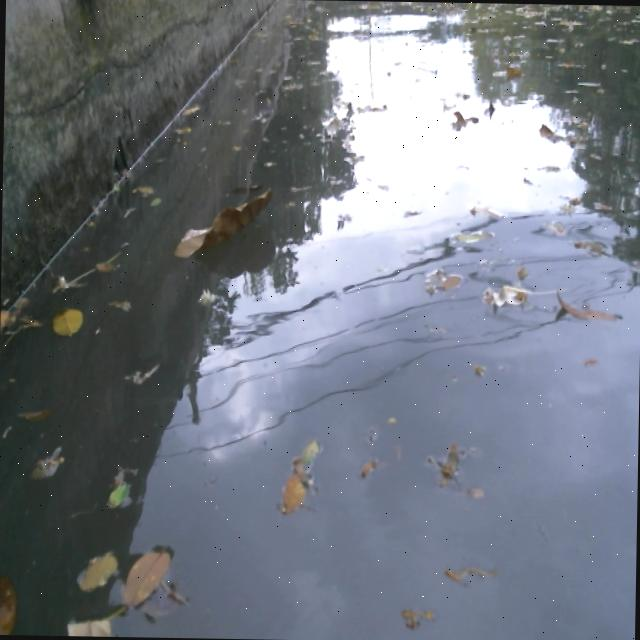Big-leaf: (169, 185, 275, 267)
Small-leaf: (113, 542, 178, 609), (549, 288, 628, 321), (70, 546, 121, 593), (428, 440, 475, 490), (478, 281, 537, 314), (274, 467, 311, 516), (438, 557, 497, 587), (0, 569, 26, 635), (61, 605, 113, 636), (27, 449, 69, 482), (49, 303, 86, 340), (398, 603, 439, 632), (451, 224, 499, 248), (468, 196, 510, 222), (103, 475, 133, 509), (449, 100, 482, 128), (566, 236, 612, 255), (299, 436, 326, 467), (355, 456, 387, 481), (531, 119, 567, 141), (436, 270, 465, 293), (105, 296, 134, 314), (503, 55, 522, 82), (93, 257, 125, 272), (480, 96, 502, 117), (179, 101, 201, 120), (146, 193, 166, 211)
